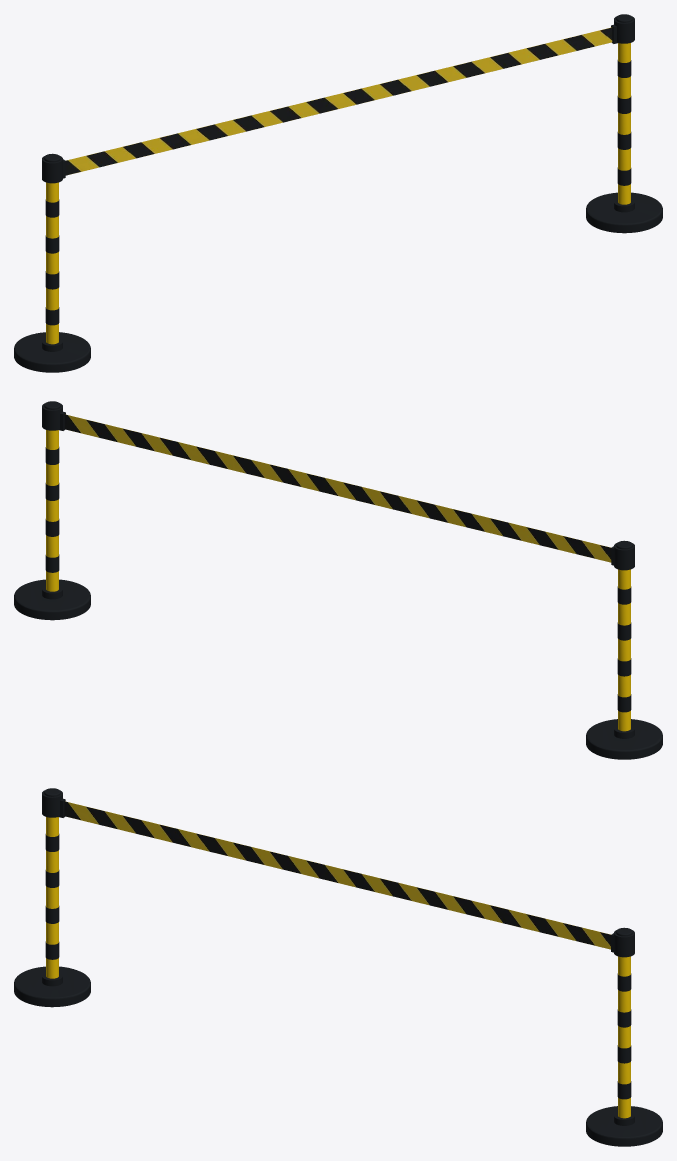
The model's file is crime-barrier-tape.glb.
3 renders of one model, top to bottom at view 1: azimuth 30°, elevation 25°; view 2: azimuth 150°, elevation 25°; view 3: azimuth 330°, elevation 25°, orthographic.
Parts seen in each view (by area): view 1: Printed barrier tape ribbon, Weighted base 0, Weighted base 1, Yellow post shaft 0, Yellow post shaft 1; view 2: Printed barrier tape ribbon, Weighted base 0, Weighted base 1, Yellow post shaft 0, Yellow post shaft 1; view 3: Printed barrier tape ribbon, Weighted base 1, Weighted base 0, Yellow post shaft 1, Yellow post shaft 0.
Boxes of the visible parts, x1,y1,x2,y2 form: Printed barrier tape ribbon: [65, 27, 612, 175]; Weighted base 0: [14, 332, 90, 372]; Weighted base 1: [586, 192, 662, 233]; Yellow post shaft 0: [46, 182, 58, 344]; Yellow post shaft 1: [618, 43, 630, 204]; Printed barrier tape ribbon: [64, 414, 611, 562]; Weighted base 0: [586, 719, 662, 759]; Weighted base 1: [14, 579, 90, 620]; Yellow post shaft 0: [618, 569, 630, 731]; Yellow post shaft 1: [46, 430, 58, 591]; Printed barrier tape ribbon: [64, 801, 610, 949]; Weighted base 1: [586, 1106, 662, 1146]; Weighted base 0: [14, 966, 90, 1007]; Yellow post shaft 1: [618, 956, 630, 1118]; Yellow post shaft 0: [46, 817, 58, 978].
Size of the model in its own units: 3.35 by 1 by 0.3499.
Materials: 3 (1 with a texture image).
